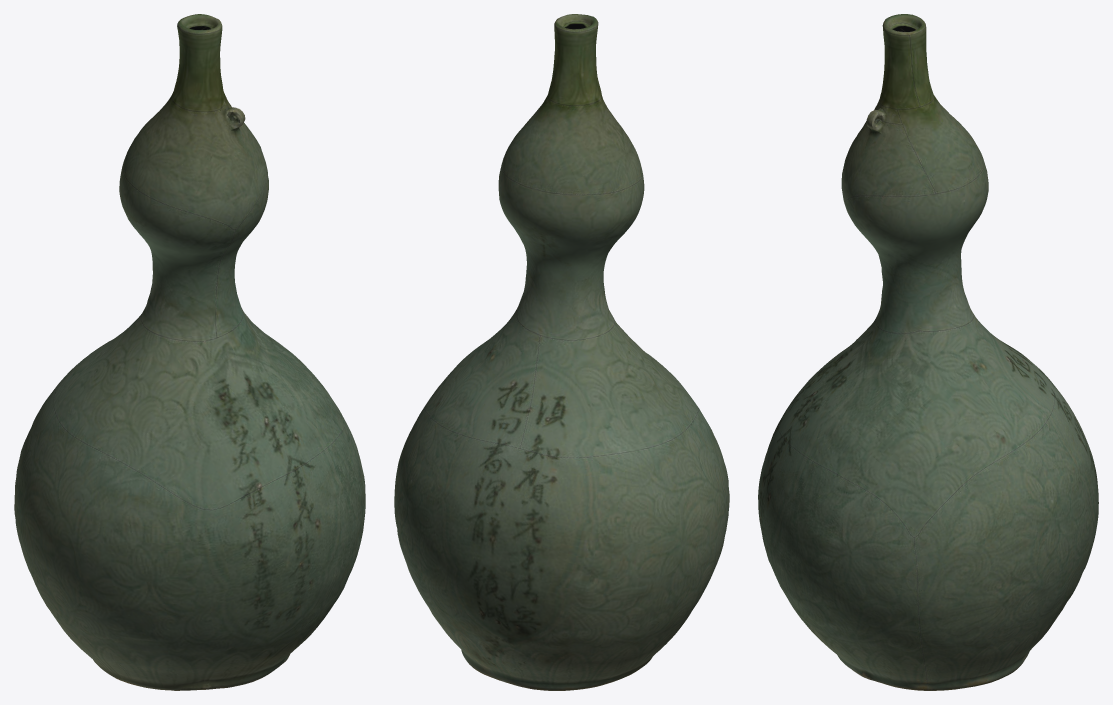
File: celadon-poem-gourd-bottle.glb
The picture shows the model from 3 angles, left to right: view 1: azimuth 30°, elevation 25°; view 2: azimuth 150°, elevation 25°; view 3: azimuth 270°, elevation 25°; orthographic projection. The views are drawn at different scales.
Visible parts, largest first — view 1: duk002857_000_30000; view 2: duk002857_000_30000; view 3: duk002857_000_30000.
Part boxes in pixels (left/top/right/bottom): duk002857_000_30000: left=14, top=14, right=365, bottom=690; duk002857_000_30000: left=394, top=14, right=729, bottom=690; duk002857_000_30000: left=758, top=14, right=1098, bottom=690.
Size of the model in its own units: 194 by 395 by 194.
Materials: 1 (1 with a texture image).
